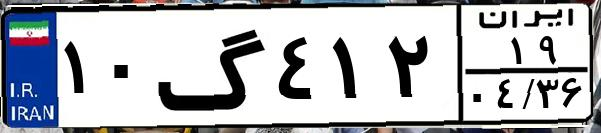0: (110, 28, 156, 98), (470, 70, 495, 125)
1: (330, 28, 385, 110), (57, 26, 110, 100), (508, 27, 537, 80)
2: (385, 28, 445, 110)
3: (535, 70, 560, 125)
4: (270, 28, 330, 110), (495, 70, 520, 125)
6: (560, 70, 590, 125)
9: (537, 27, 568, 80)
گ: (156, 12, 270, 120)
